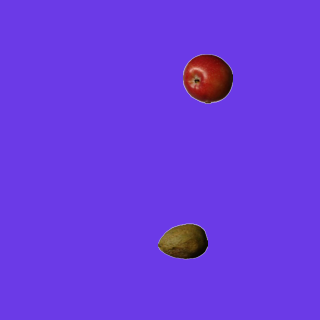Apple Braeburn: (182, 53, 232, 103)
Papaya: (157, 216, 207, 266)
